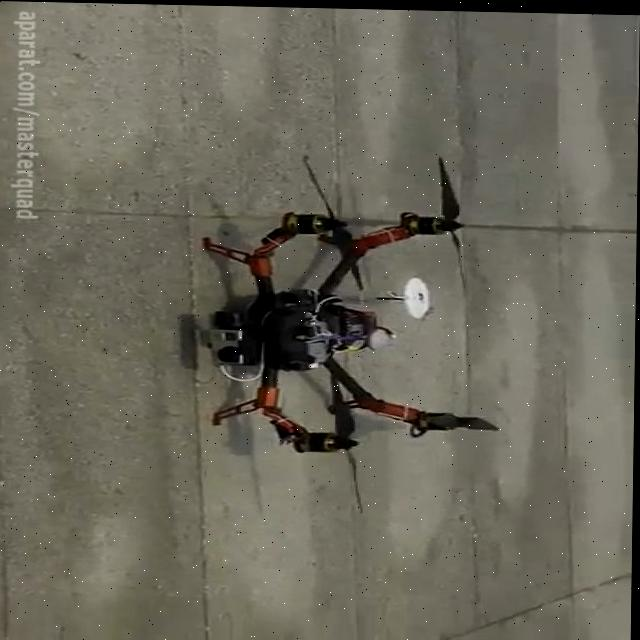drone: (195, 149, 509, 515)
